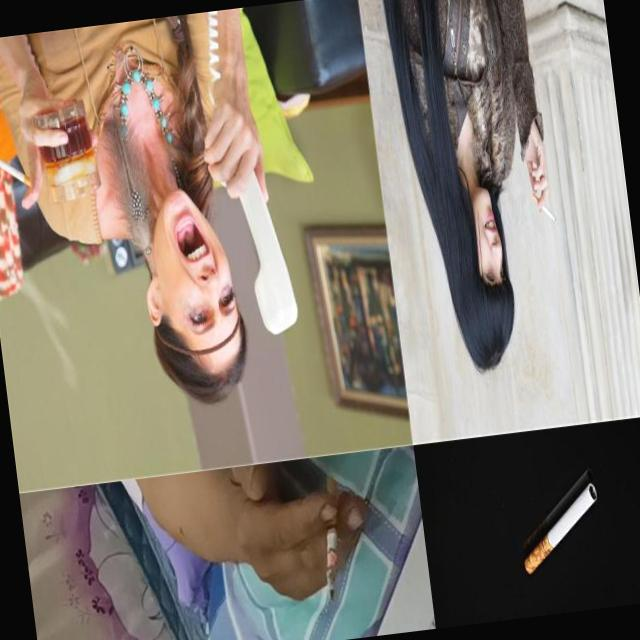cigarette: (514, 481, 606, 574), (314, 476, 352, 602), (0, 145, 36, 196), (530, 186, 559, 230)
